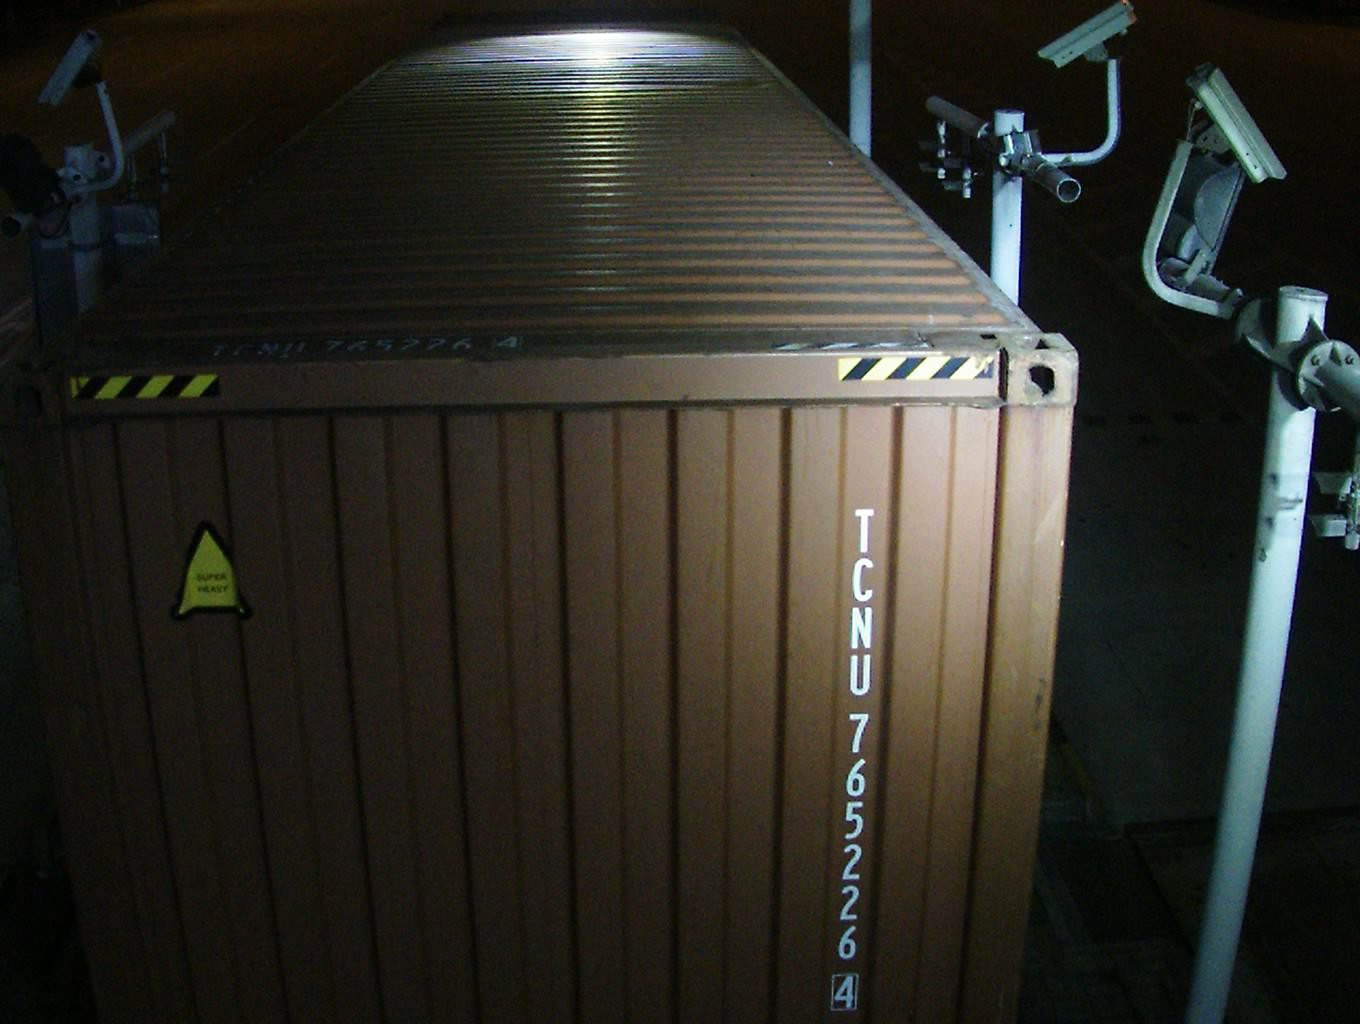words: (829, 496, 883, 1016)
